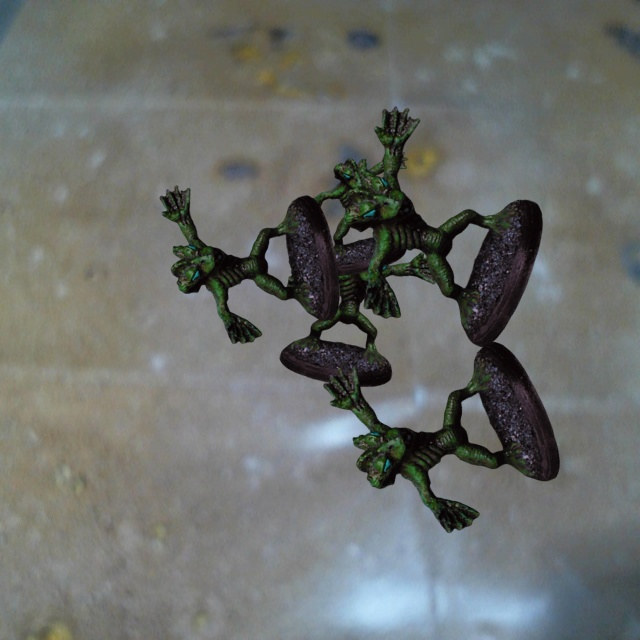pieza_juego: (344, 106, 542, 346), (323, 342, 559, 532), (159, 185, 339, 343), (279, 242, 441, 386), (301, 148, 407, 276)
